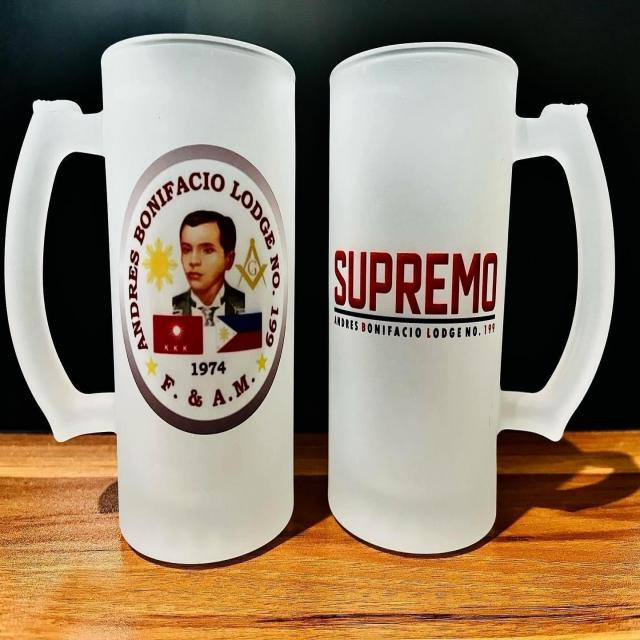glass-mug: (0, 25, 312, 572), (315, 34, 621, 572)
